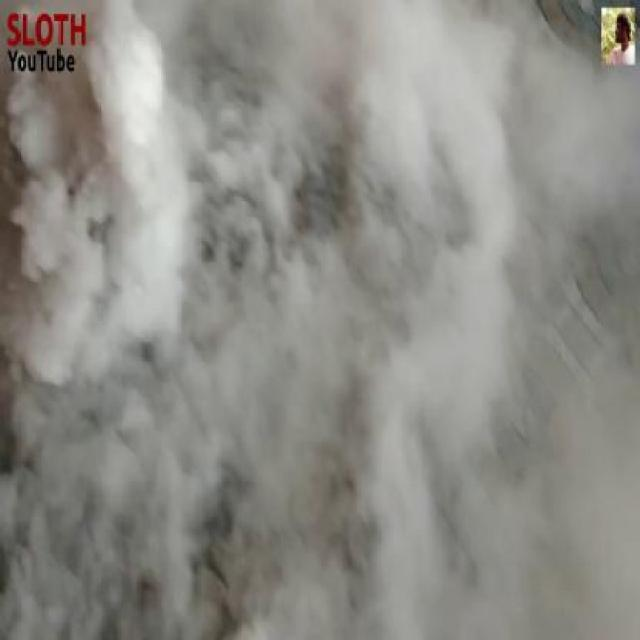smoke: (122, 118, 620, 640)
